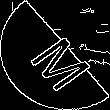M_NE: (17, 21, 93, 89)
